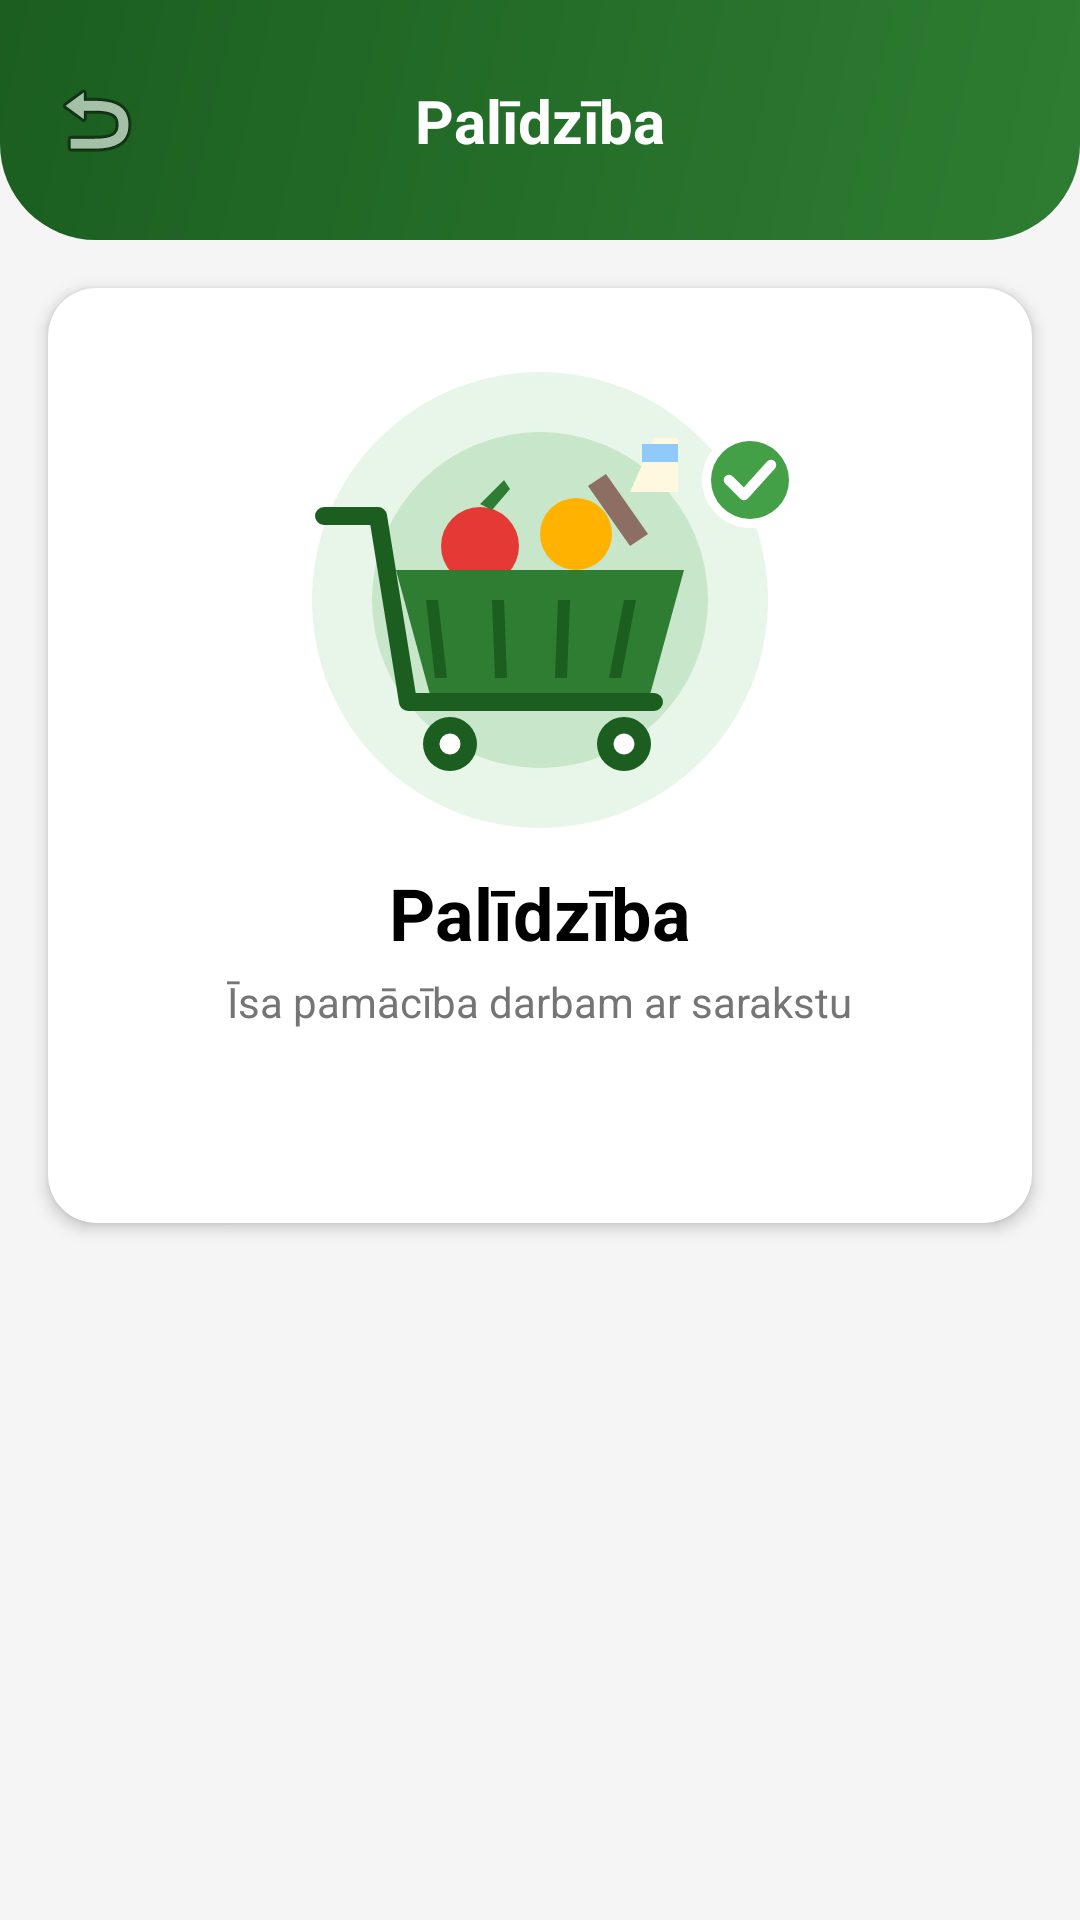

Icons on this 1080 × 1920 Android screen, each with its box as (x1,y1,x2,y2):
Atpakaļ: (63,90,131,152)
